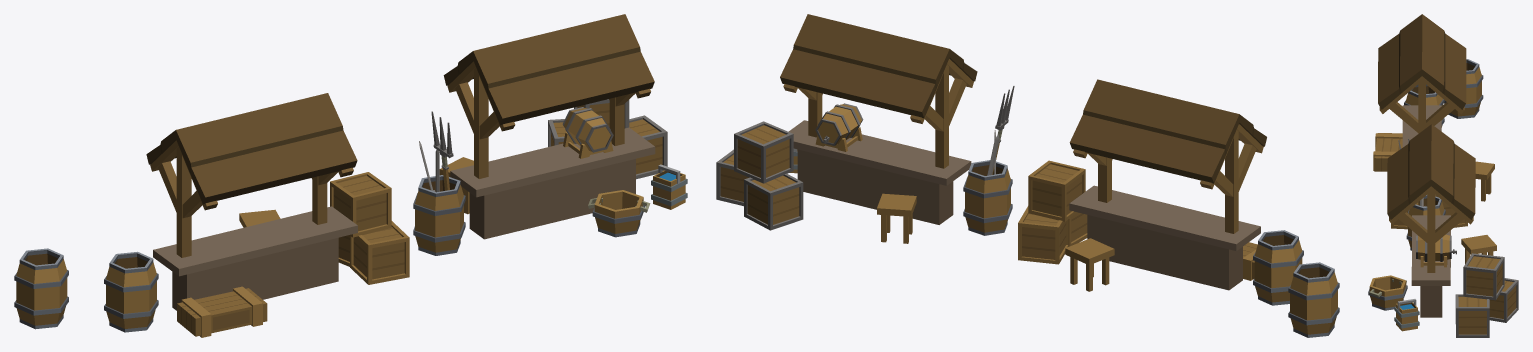
Rendered from MARCHEE.fbx.
3 views of the same model, side by side, from view 1: azimuth 30°, elevation 25°; view 2: azimuth 150°, elevation 25°; view 3: azimuth 270°, elevation 25° (orthographic). The views are drawn at different scales.
Parts seen in each view (by area): view 1: polySurface72, polySurface10, polySurface11, polySurface7, polySurface25, polySurface37, polySurface63, polySurface19, polySurface4, polySurface22, polySurface18, polySurface6 (+16 smaller); view 2: polySurface10, polySurface72, polySurface11, polySurface7, polySurface25, polySurface63, polySurface37, polySurface47, polySurface51, polySurface22, polySurface24, polySurface6 (+14 smaller); view 3: polySurface72, polySurface10, polySurface7, polySurface47, polySurface4, polySurface25, polySurface49, polySurface46, polySurface67, polySurface6, polySurface19, polySurface51 (+18 smaller).
Boxes of the visible parts, x1,y1,x2,y2 form: polySurface72: [443, 14, 654, 125]; polySurface10: [146, 93, 357, 204]; polySurface11: [153, 206, 357, 310]; polySurface7: [450, 127, 655, 239]; polySurface25: [14, 248, 68, 329]; polySurface37: [104, 251, 158, 332]; polySurface63: [413, 175, 465, 255]; polySurface19: [177, 288, 267, 336]; polySurface4: [592, 190, 645, 237]; polySurface22: [333, 176, 386, 231]; polySurface18: [353, 227, 404, 279]; polySurface6: [562, 107, 613, 152]; polySurface10: [1069, 79, 1266, 183]; polySurface72: [780, 14, 977, 118]; polySurface11: [1069, 185, 1260, 290]; polySurface7: [788, 120, 971, 224]; polySurface25: [1288, 262, 1339, 337]; polySurface63: [963, 160, 1012, 235]; polySurface37: [1253, 230, 1303, 305]; polySurface47: [737, 125, 789, 177]; polySurface51: [747, 175, 799, 224]; polySurface22: [1032, 164, 1081, 216]; polySurface24: [1022, 213, 1066, 259]; polySurface6: [815, 103, 863, 145]; polySurface72: [1387, 124, 1475, 219]; polySurface10: [1378, 14, 1466, 109]; polySurface7: [1411, 215, 1450, 317]; polySurface47: [1466, 256, 1502, 296]; polySurface4: [1368, 275, 1407, 310]; polySurface25: [1444, 59, 1483, 118]; polySurface49: [1458, 296, 1486, 334]; polySurface46: [1463, 253, 1504, 300]; polySurface67: [1427, 191, 1435, 272]; polySurface6: [1416, 234, 1451, 261]; polySurface19: [1374, 133, 1402, 171]; polySurface51: [1489, 280, 1516, 318].
Size of the model in its own units: 18.31 by 5 by 4.96.
